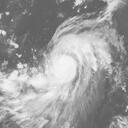cyclone: (43, 53, 80, 85)
